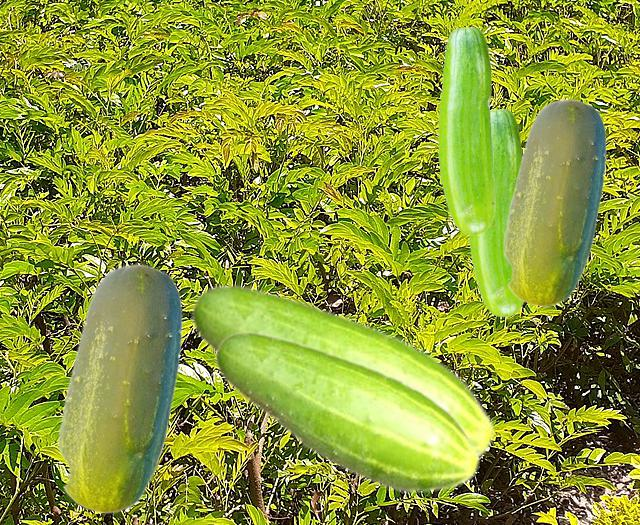cucumber: (190, 283, 495, 459), (214, 330, 480, 494), (57, 263, 181, 513), (502, 98, 605, 306), (438, 26, 494, 234), (469, 108, 523, 316)
